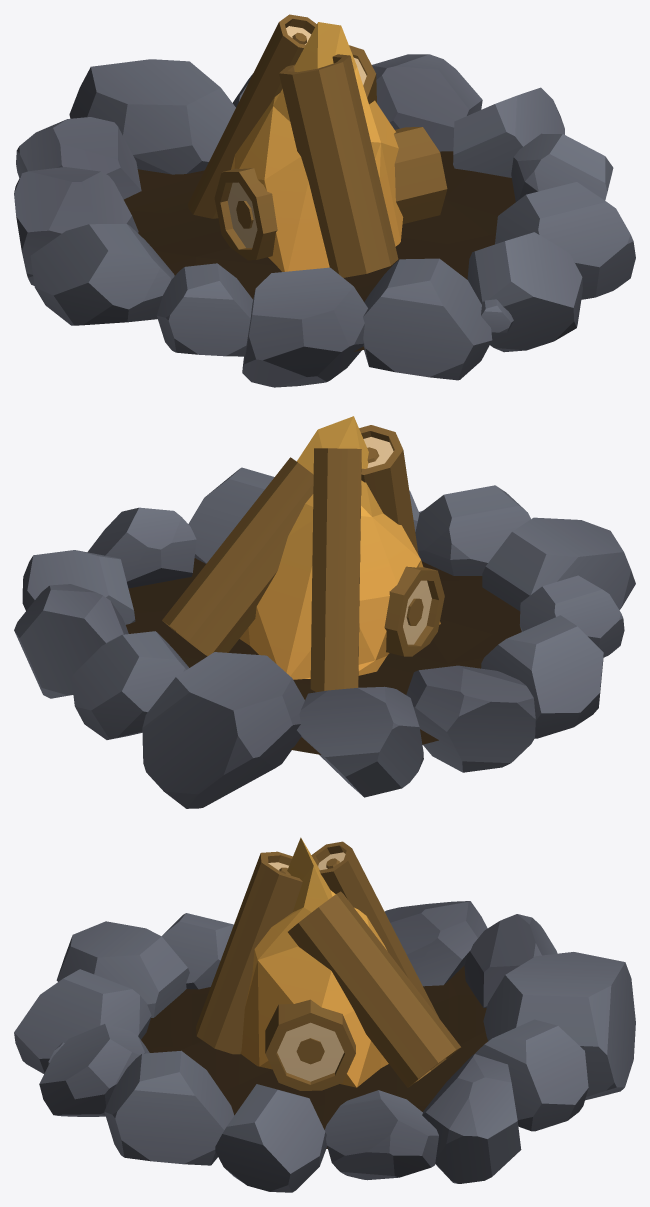
The model's file is Bonfire.fbx.
3 views of the same model, one above another, from view 1: azimuth 30°, elevation 25°; view 2: azimuth 150°, elevation 25°; view 3: azimuth 270°, elevation 25° (orthographic). The views are drawn at different scales.
Visible parts, largest first — view 1: Bonfire; view 2: Bonfire; view 3: Bonfire.
Boxes of the visible parts, <box> form: Bonfire: <box>14,14,635,387</box>; Bonfire: <box>14,416,635,808</box>; Bonfire: <box>14,837,635,1192</box>.
Bounding box in the file's own units: 0.9601 × 0.4825 × 1.02.
